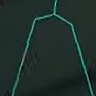hacks_2: (12, 1, 96, 96)
